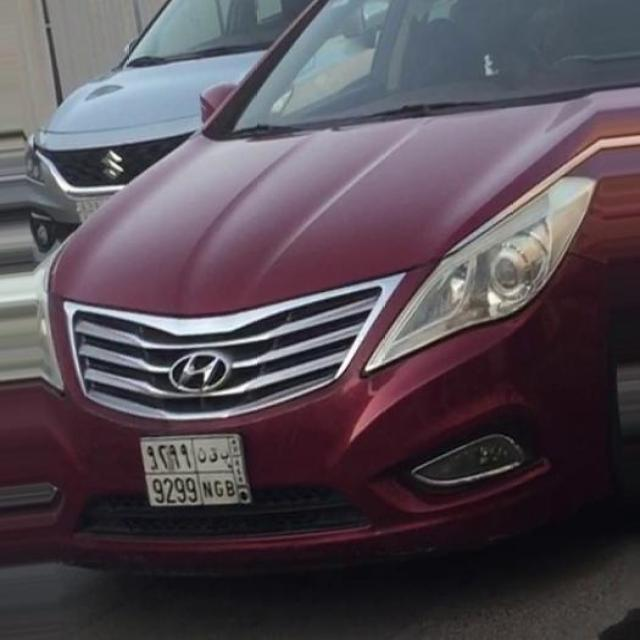Car-plate: (122, 409, 281, 529)
